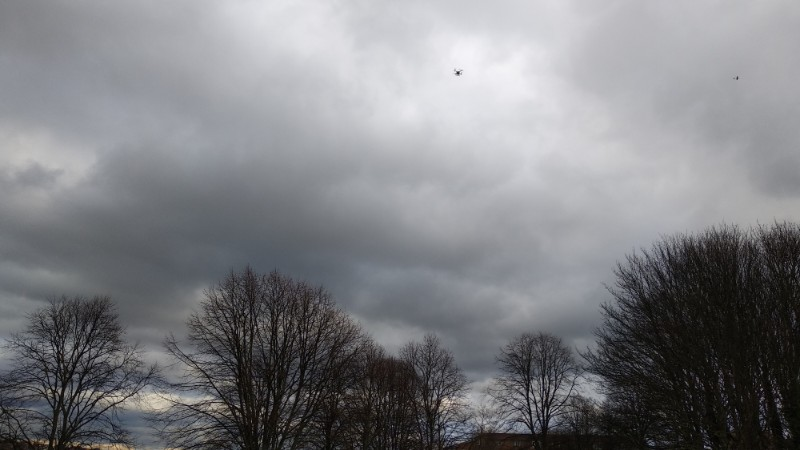drone: (454, 69, 464, 76)
